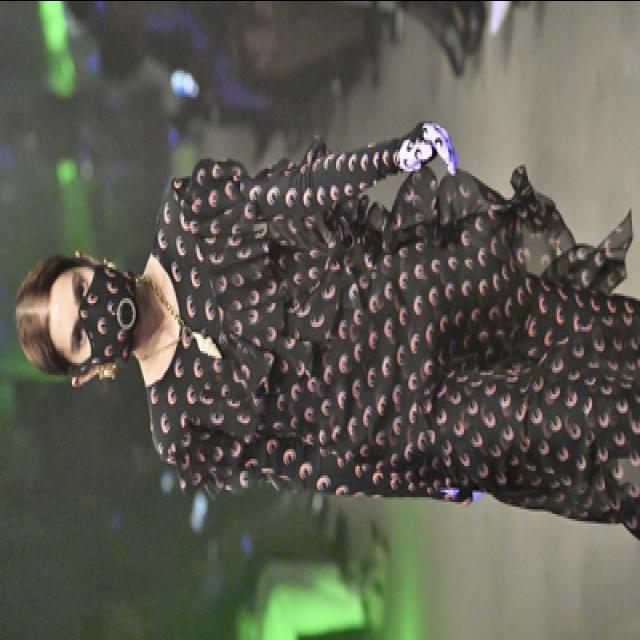with_mask: (62, 266, 138, 374)
